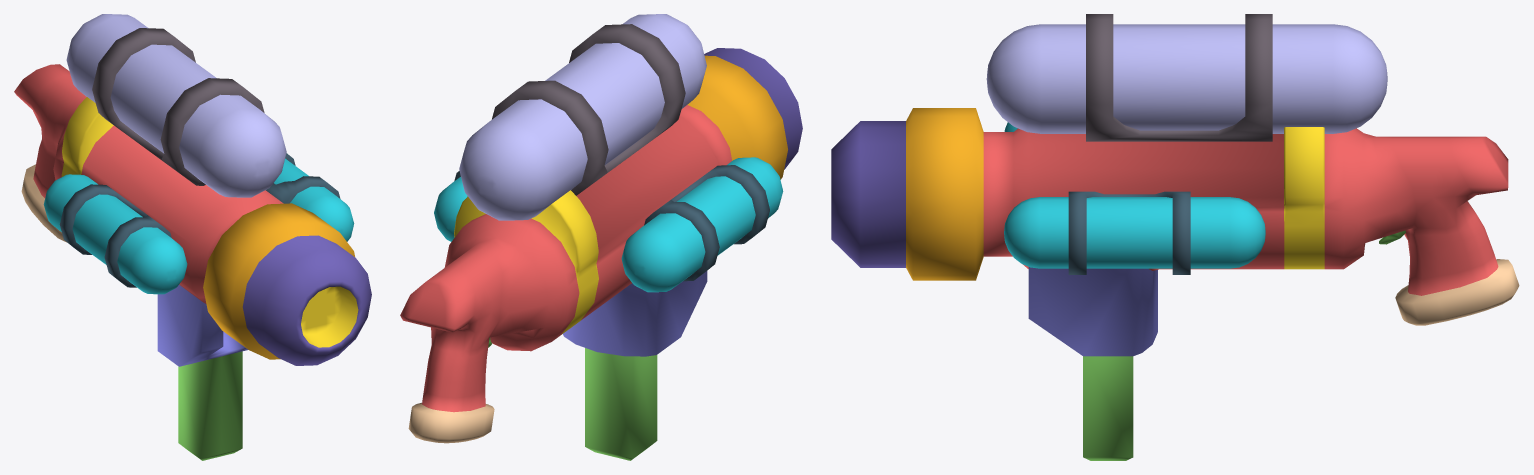
File: Watergun5.fbx
3 renders of one model, left to right at view 1: azimuth 30°, elevation 25°; view 2: azimuth 150°, elevation 25°; view 3: azimuth 270°, elevation 25°, orthographic. The views are drawn at different scales.
Visible parts, largest first — view 1: Watergun5; view 2: Watergun5; view 3: Watergun5.
Part boxes in pixels (<box>): Watergun5: <box>14,14,371,460</box>; Watergun5: <box>400,14,802,460</box>; Watergun5: <box>831,14,1519,460</box>.
Bounding box in the file's own units: 0.1801 × 0.2776 × 0.4005.
